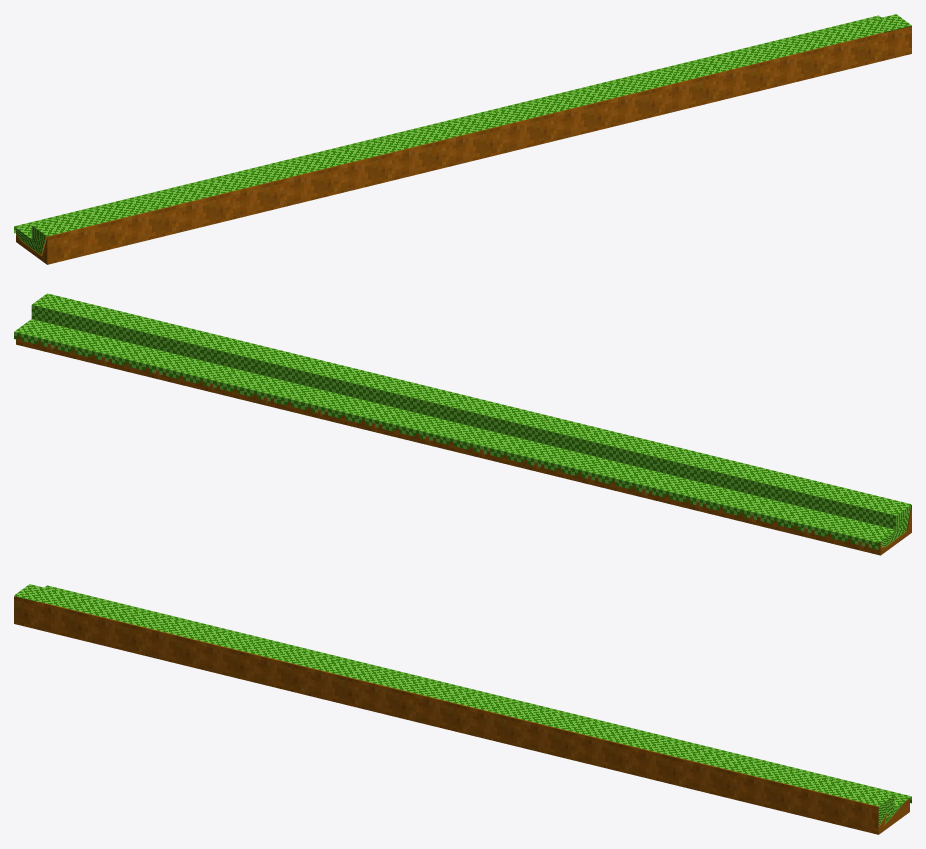
The model's file is stage01_A_neo.fbx.
3 renders of one model, top to bottom at view 1: azimuth 30°, elevation 25°; view 2: azimuth 150°, elevation 25°; view 3: azimuth 330°, elevation 25°, orthographic.
Parts seen in each view (by area): view 1: stage01_A_neo; view 2: stage01_A_neo; view 3: stage01_A_neo.
Boxes of the visible parts, box(x1,y1,x2,y2) form: stage01_A_neo: box(14, 14, 911, 264); stage01_A_neo: box(14, 293, 911, 555); stage01_A_neo: box(14, 584, 911, 834).
Size of the model in its own units: 2376 by 74.45 by 158.
